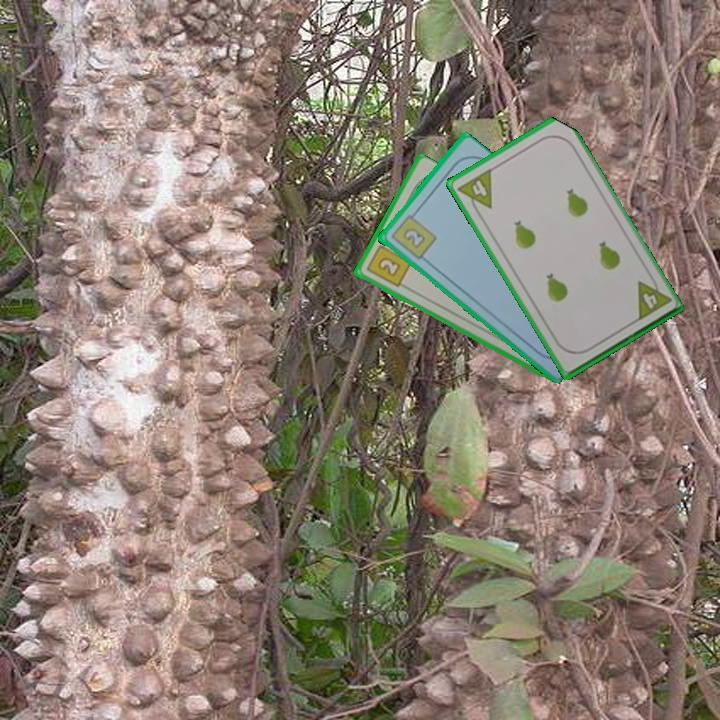2b: (387, 208, 439, 262), (362, 237, 414, 290)
4p: (454, 165, 495, 218), (633, 272, 673, 324)
